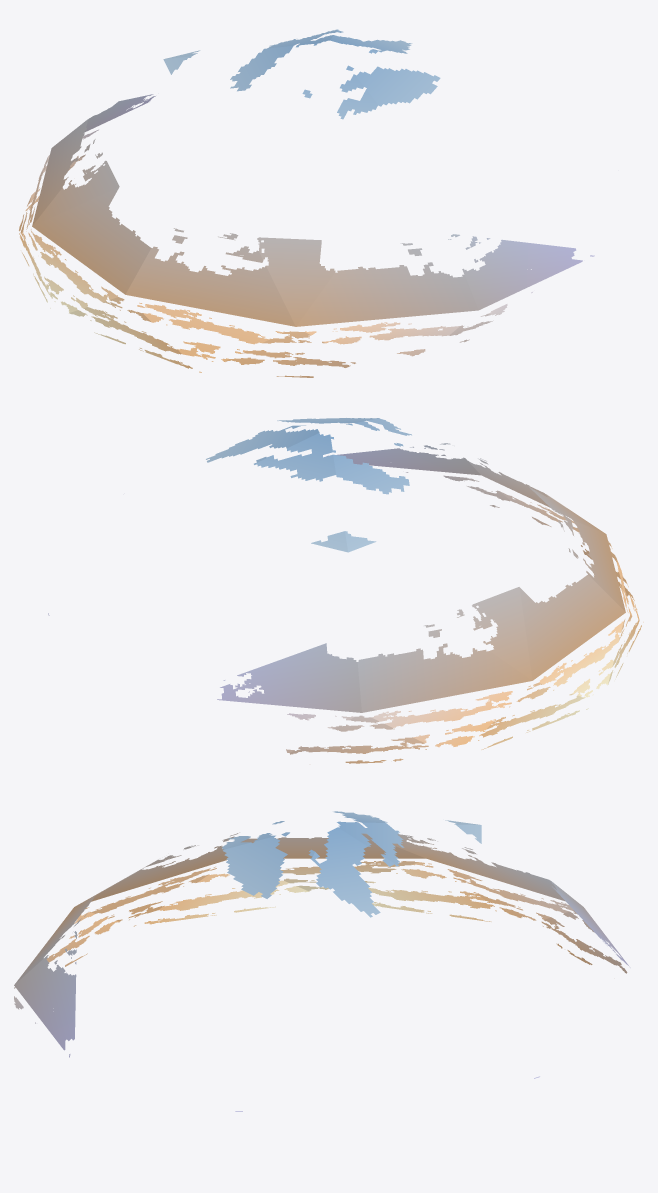
File: uvmd-0363.glb
3 views of the same model, one above another, from view 1: azimuth 30°, elevation 25°; view 2: azimuth 150°, elevation 25°; view 3: azimuth 270°, elevation 25° (orthographic). The views are drawn at different scales.
Visible parts, largest first — view 1: uvmd-0363; view 2: uvmd-0363; view 3: uvmd-0363.
Boxes of the visible parts, x1,y1,x2,y2 form: uvmd-0363: (19,29,594,377); uvmd-0363: (48,418,643,763); uvmd-0363: (14,811,630,1111).
Bounding box in the file's own units: 3576 × 1300 × 3412.
3 materials, 3 textured.
